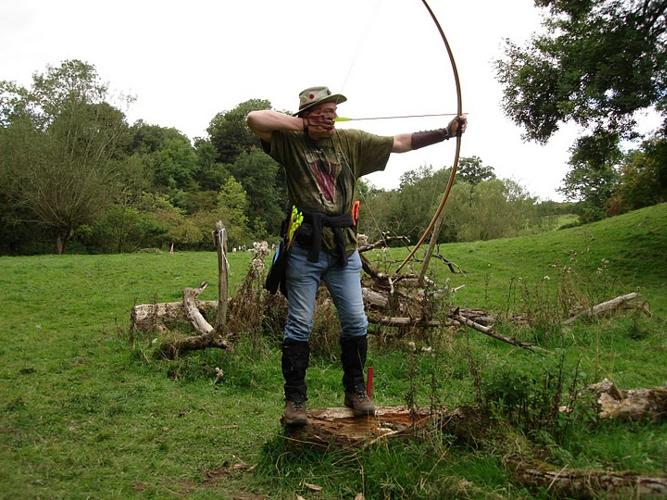person: (244, 83, 471, 430)
